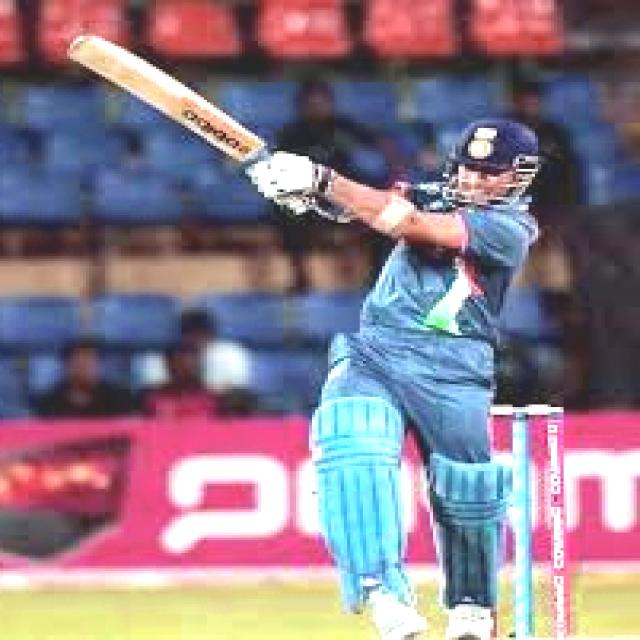toe: (55, 29, 115, 69)
